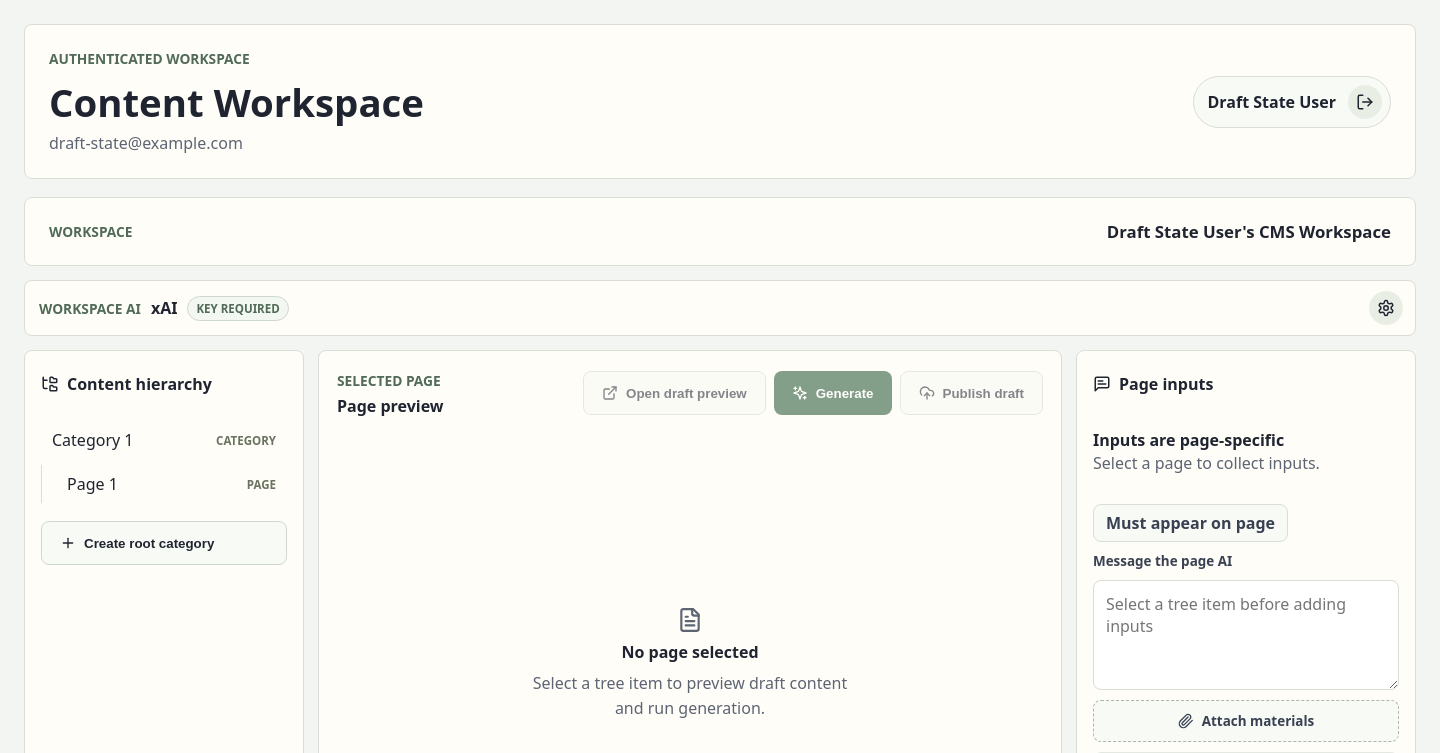
Test case: draft state and dirty tracking › generation saves output as an unpublished draft without creating a published version
Click the button "Page 1 page" at (172, 484), box top-left (56, 465), bottom-right (287, 503)
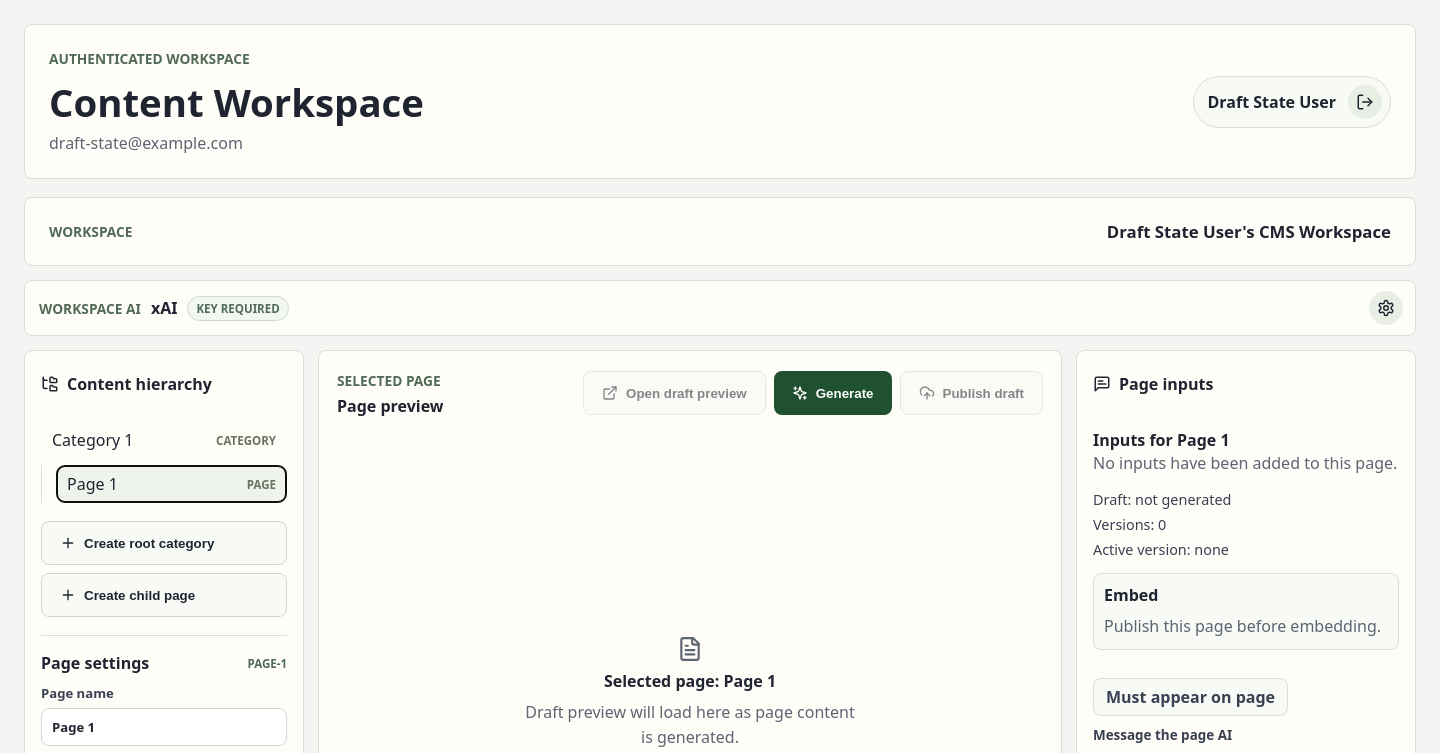
Click the button "Generate" at (833, 393), box top-left (774, 371), bottom-right (892, 415)
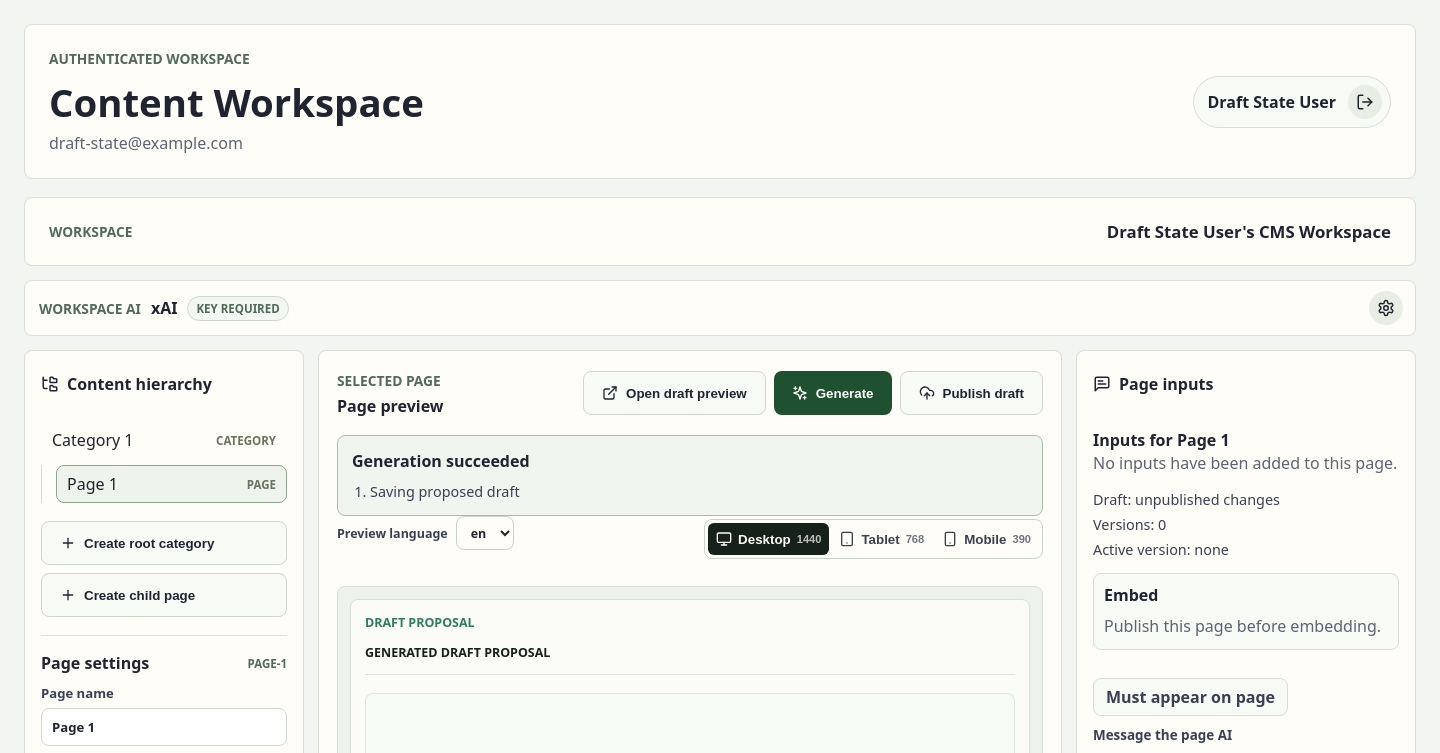
Expected: the list item "Draft: unpublished changes" is shown, top-left (1093, 490), bottom-right (1280, 509)
